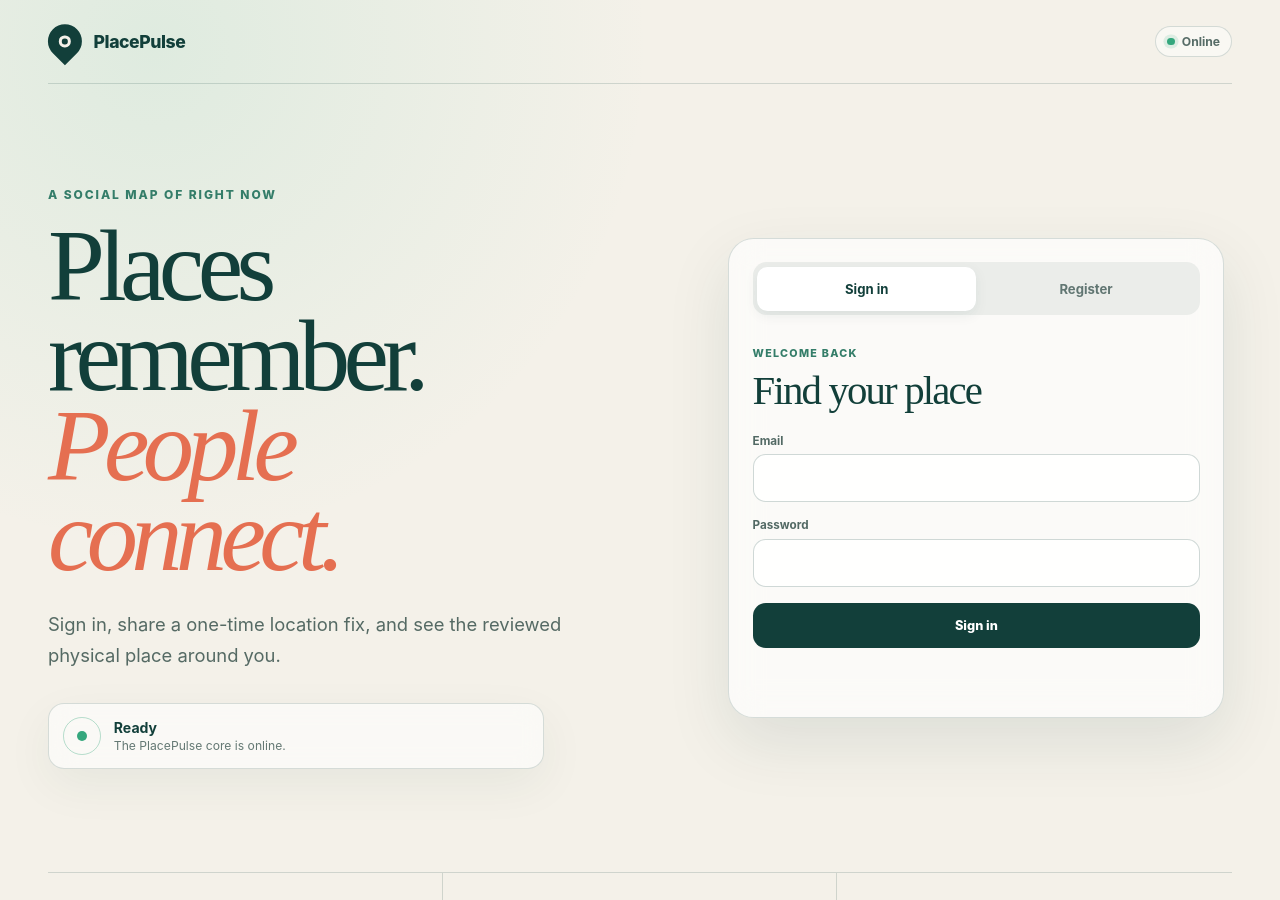
Test: PlacePulse location slice › registers with the session CSRF token and returns to sign in
Click the button "Register" at {"x": 1086, "y": 289}, box [976,267,1196,311]
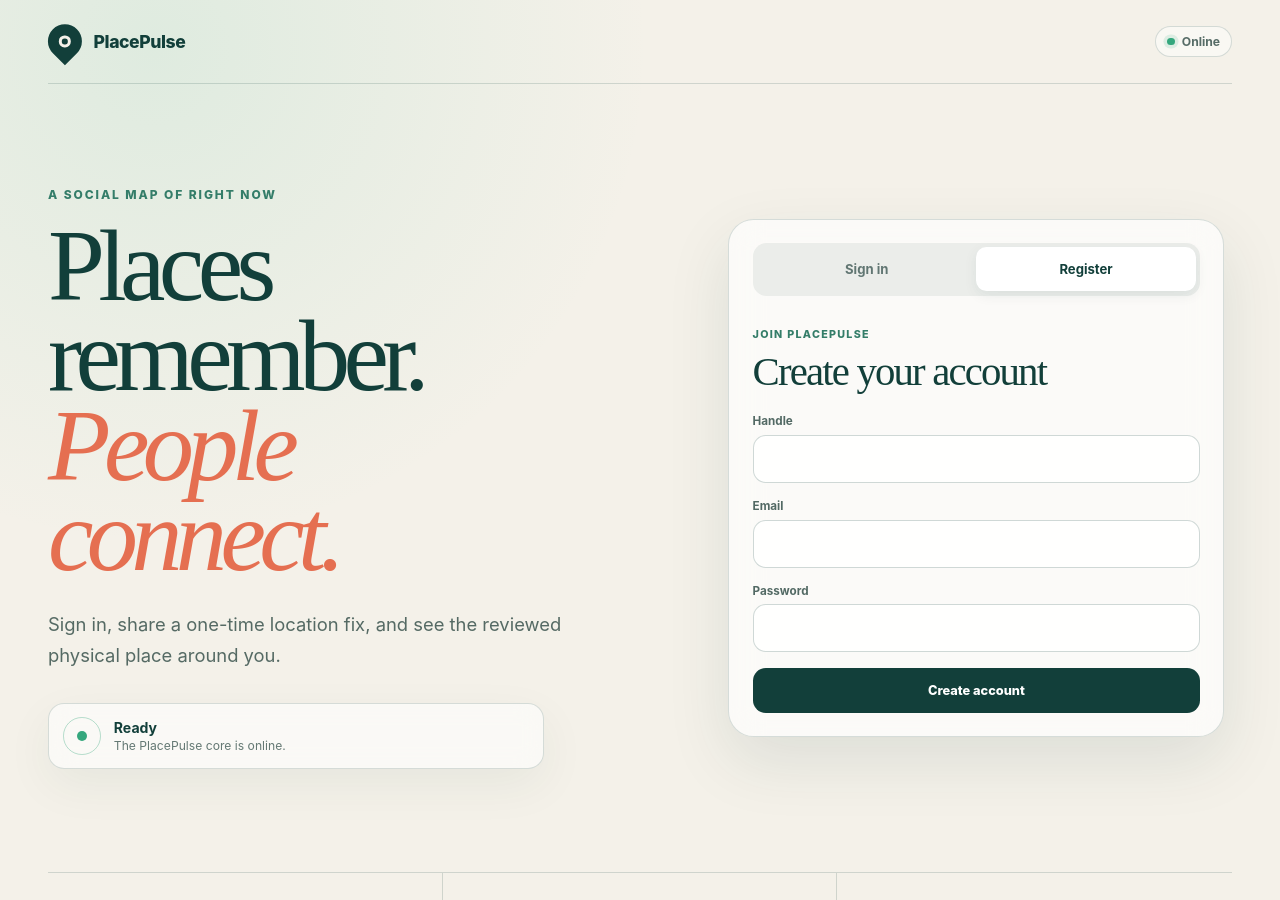
Type "campus_user" into the field labelled "Handle" at {"x": 976, "y": 459}, box [753,435,1200,483]
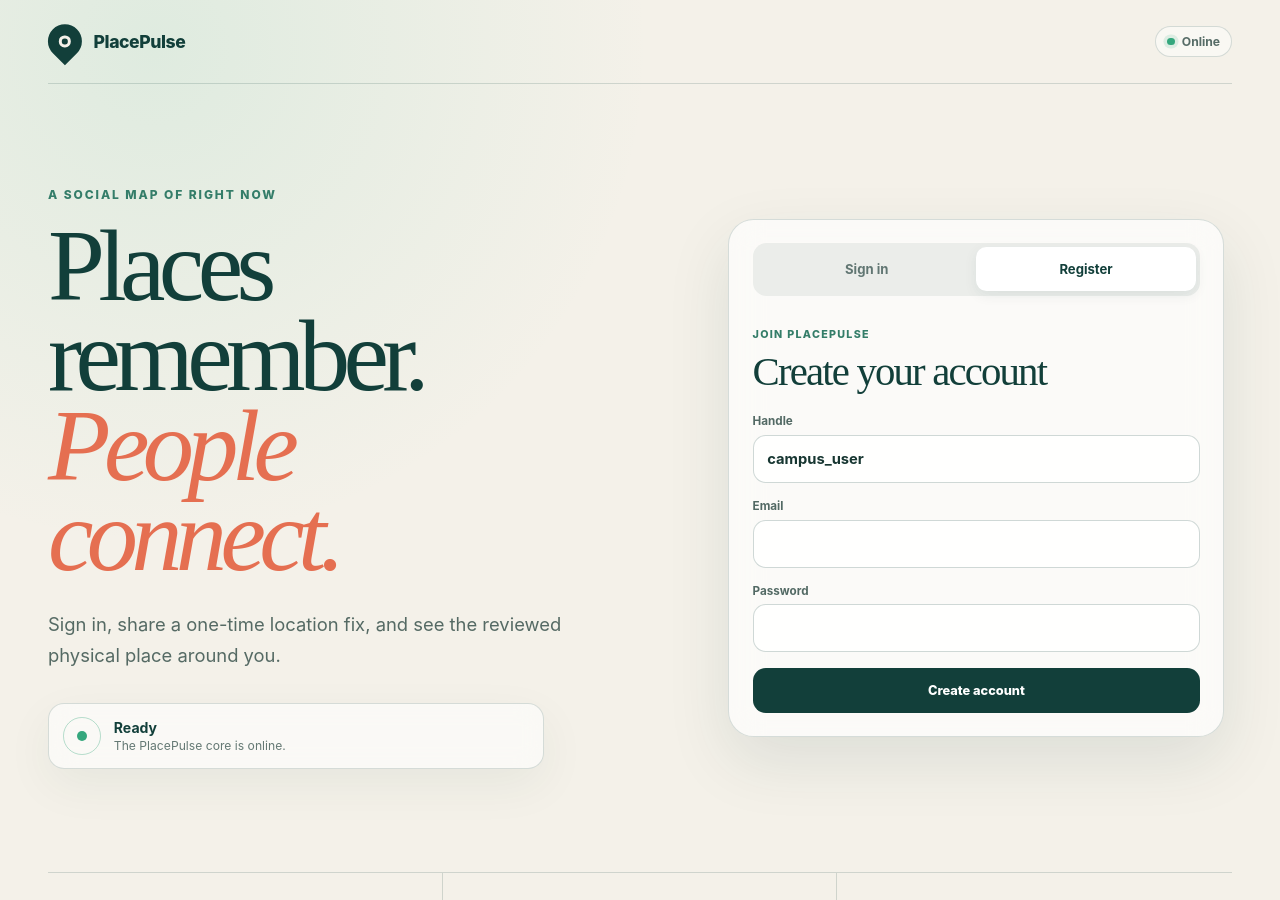
Type "campus@example.test" into the field labelled "Email" at {"x": 976, "y": 544}, box [753,520,1200,568]
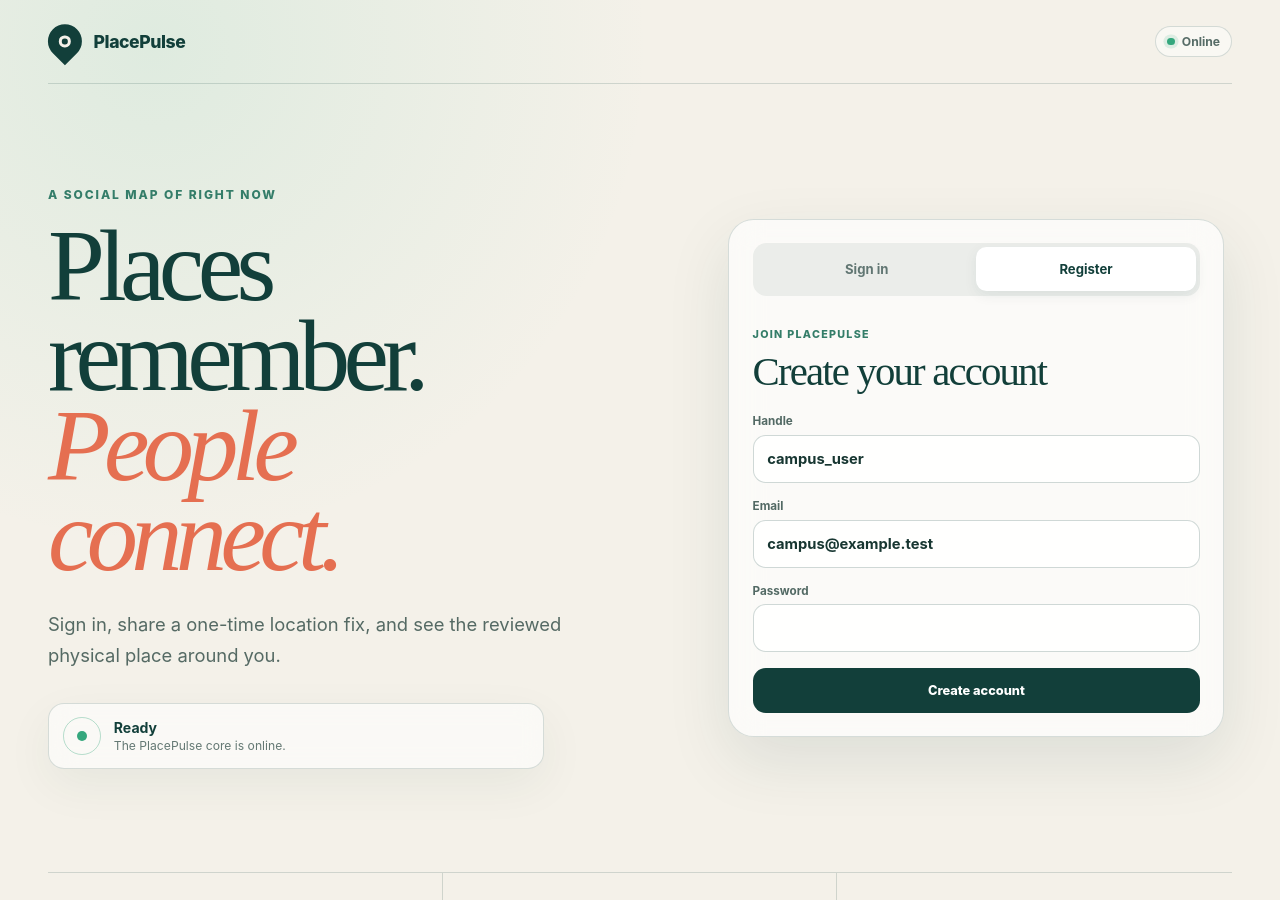
Type "a-long-test-password" into the password field labelled "Password" at {"x": 976, "y": 628}, box [753,604,1200,652]
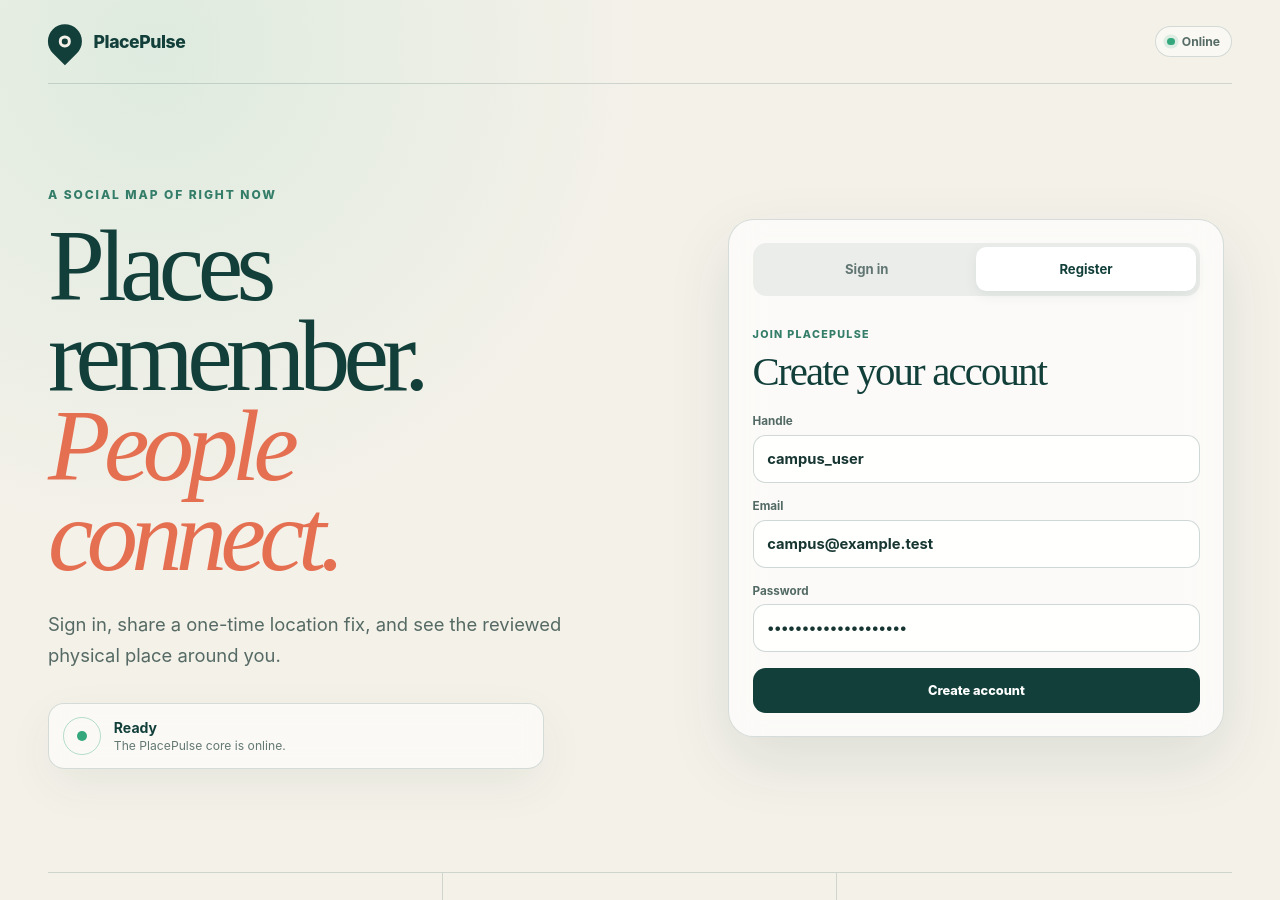
Click the button "Create account" at {"x": 976, "y": 691}, box [753,668,1200,713]
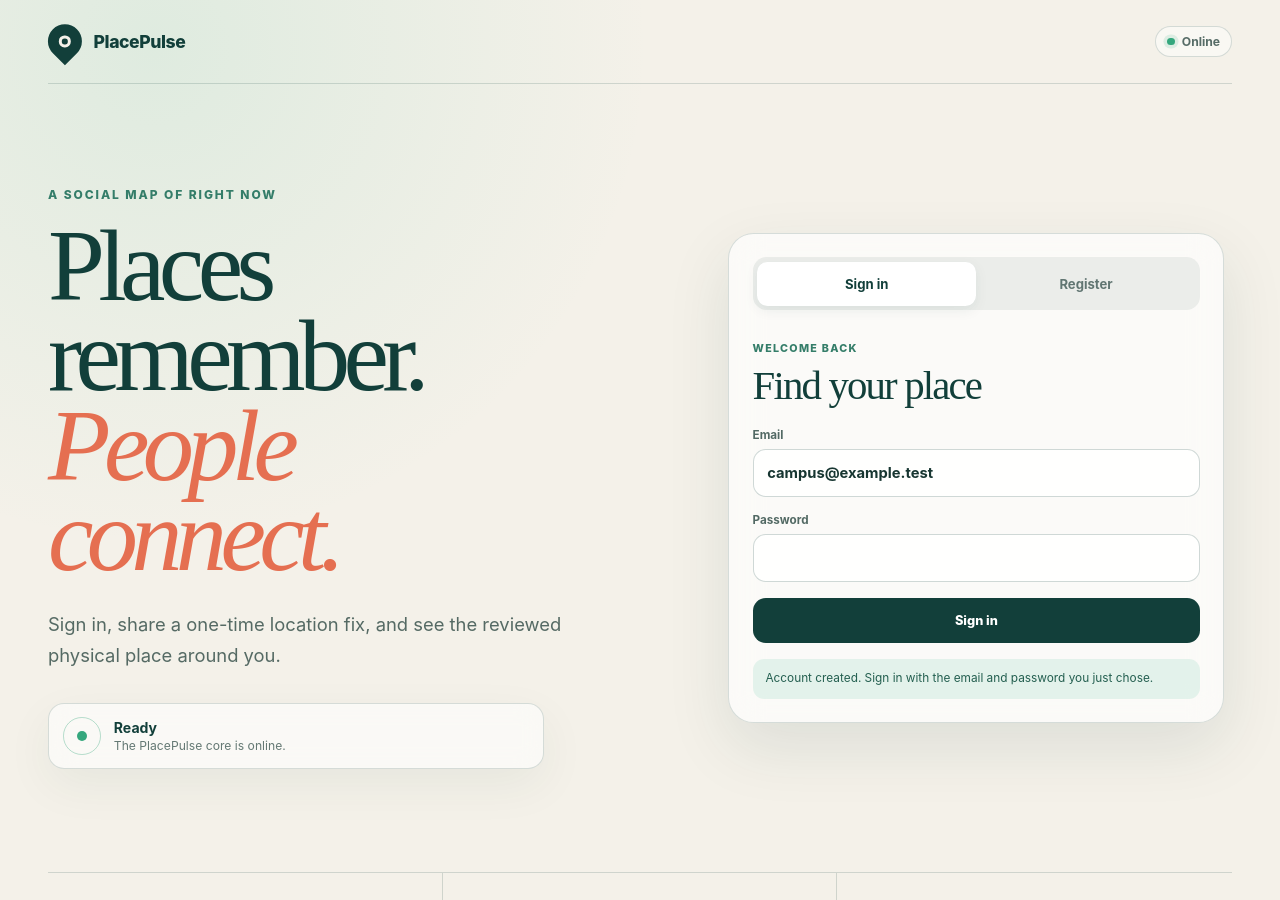
Expected: the text "Account created. Sign in with the email and password you just chose." is shown, [753,659,1200,699]
